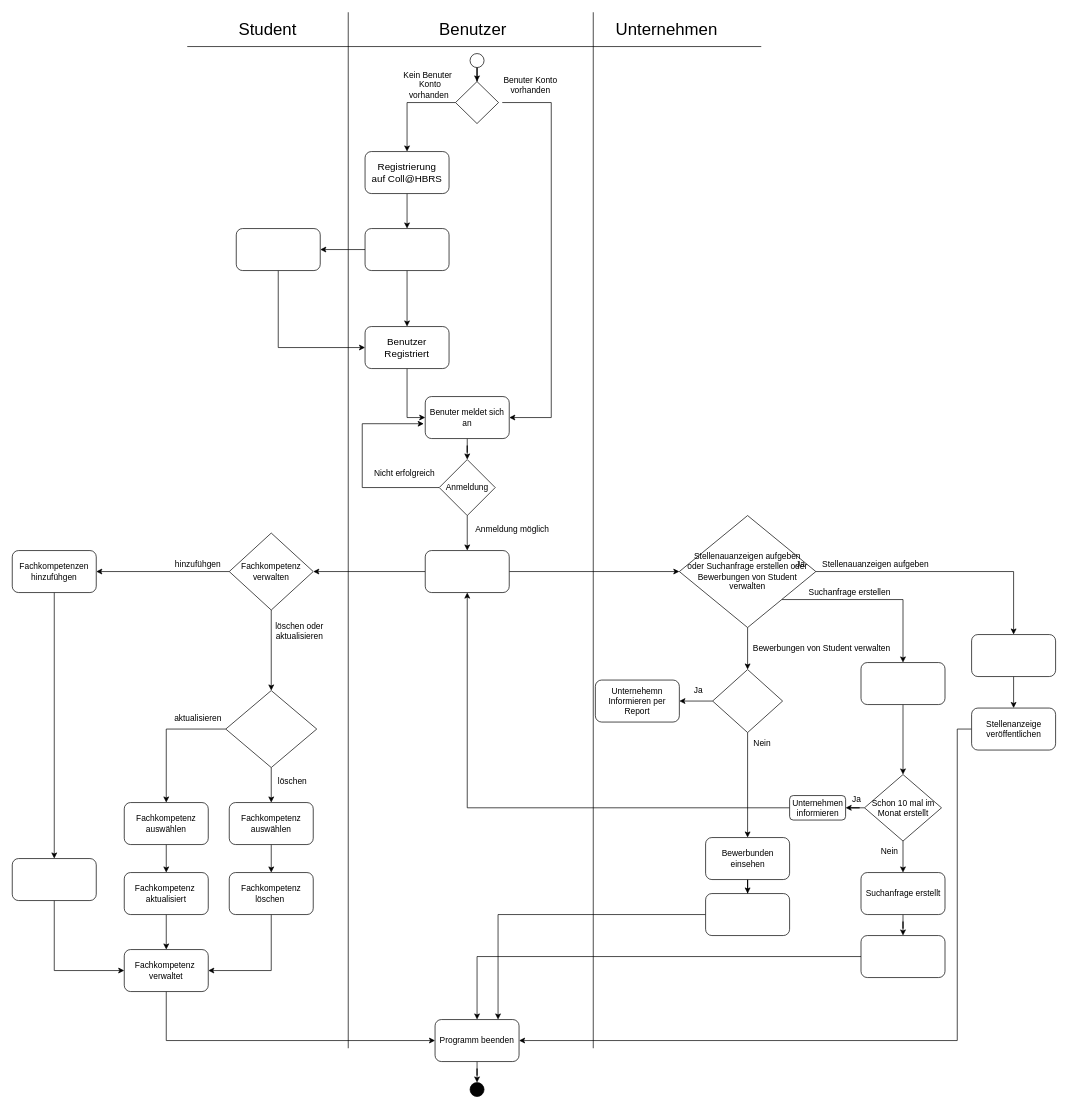
Some shapes in this 1068 by 1109 pixel diagram are drawn without their labels. Here are the shapes that lost their labels. From the top down, the box of each, then its label:
(236, 228, 320, 271): Benutzer Informationen werden mit dem SIS abgeglichen
(364, 228, 449, 271): Benutzer Infroamtionen angeben
(425, 550, 509, 593): Erfogreich angemeldet
(971, 634, 1056, 677): Stellenanzeige verfassen
(712, 669, 783, 733): Neue Bewerbung vorhanden
(860, 662, 945, 705): gesuchte Fachkompetenz angeben
(225, 690, 317, 768): Fachkompetenz löschen oder aktualisiert
(12, 858, 96, 901): In Kategorie einordnen
(705, 893, 790, 936): Studenten Informationen Extrahieren
(860, 935, 945, 978): Unternehemen über passende Studenten informieren
